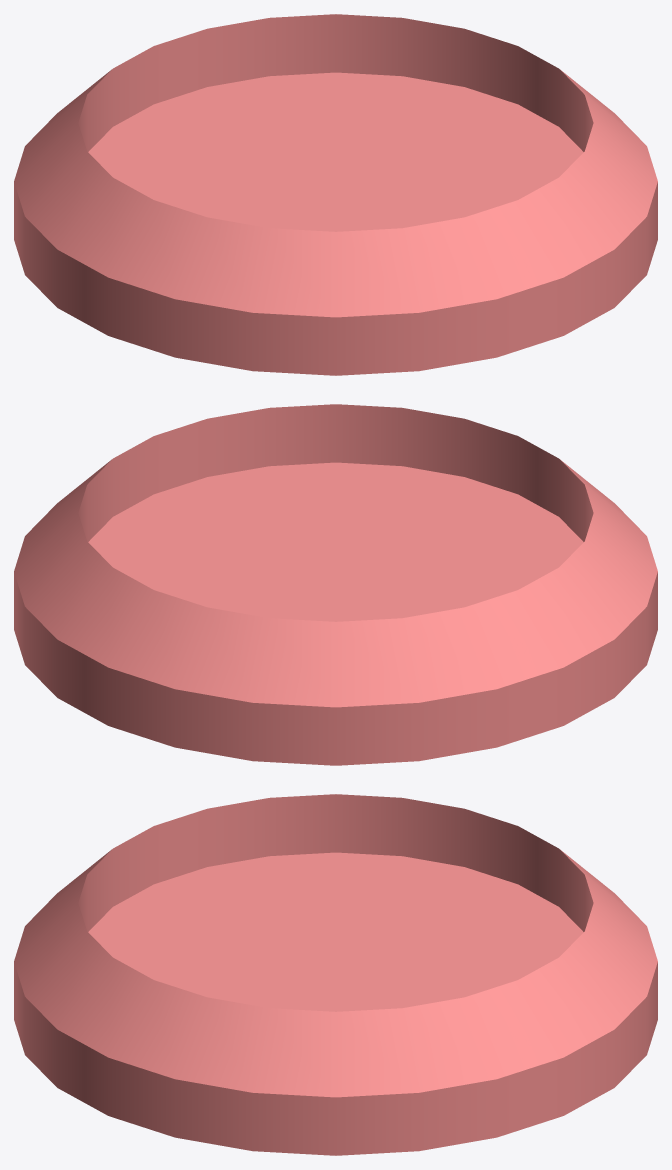
File: Light_DengPian2_1X1_off.FBX
The picture shows the model from 3 angles, top to bottom: view 1: azimuth 30°, elevation 25°; view 2: azimuth 150°, elevation 25°; view 3: azimuth 270°, elevation 25°; orthographic projection.
Parts seen in each view (by area): view 1: Box001; view 2: Box001; view 3: Box001.
Boxes of the visible parts, left/top/right/bottom form: Box001: left=14, top=14, right=657, bottom=375; Box001: left=14, top=404, right=657, bottom=765; Box001: left=14, top=794, right=657, bottom=1155.
Size of the model in its own units: 1 by 0.2 by 1.
